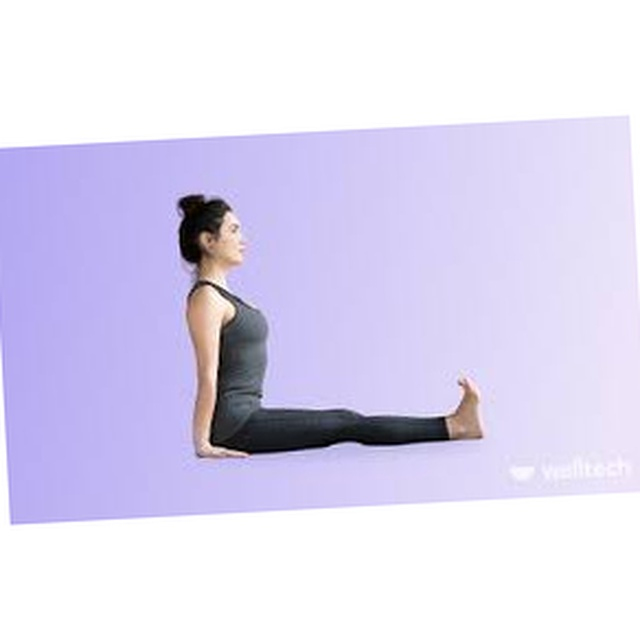Staff_Pose: (175, 192, 483, 460)
